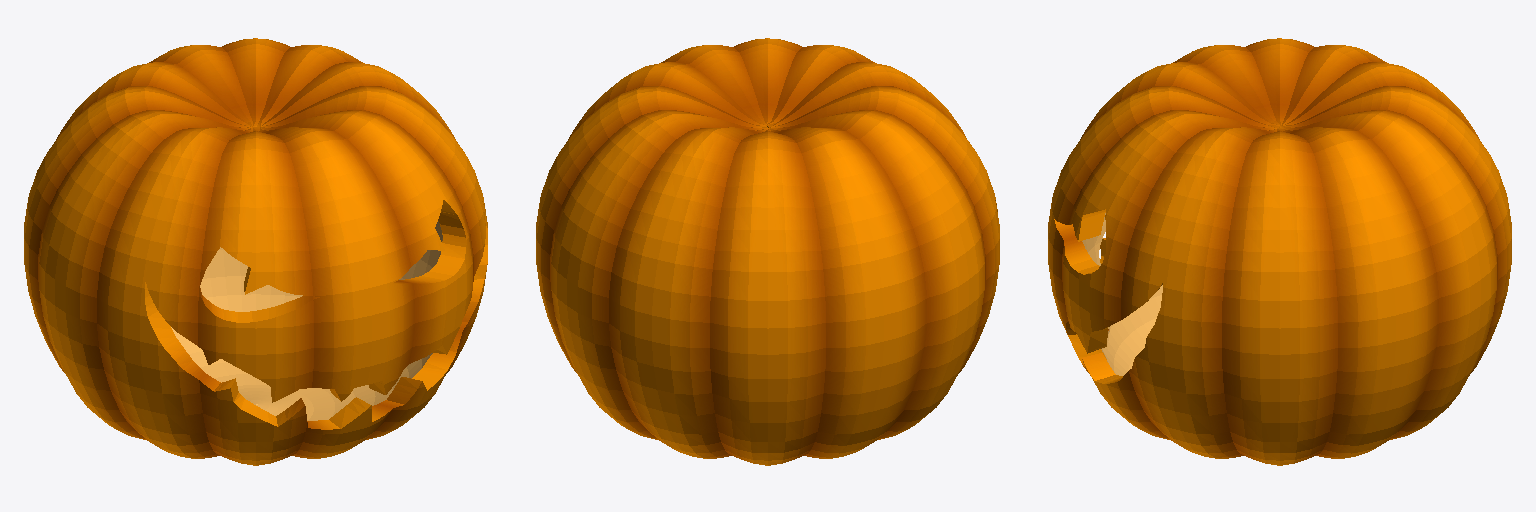
The picture shows the model from 3 angles: view 1: azimuth 30°, elevation 25°; view 2: azimuth 150°, elevation 25°; view 3: azimuth 270°, elevation 25°; orthographic projection.
Parts seen in each view (by area): view 1: pumpkin_001; view 2: pumpkin_001; view 3: pumpkin_001.
Boxes of the visible parts, x1,y1,x2,y2 form: pumpkin_001: [24, 38, 487, 465]; pumpkin_001: [536, 38, 999, 465]; pumpkin_001: [1048, 38, 1511, 465].
Size of the model in its own units: 6.3 by 4.93 by 6.3.
1 materials, 1 textured.